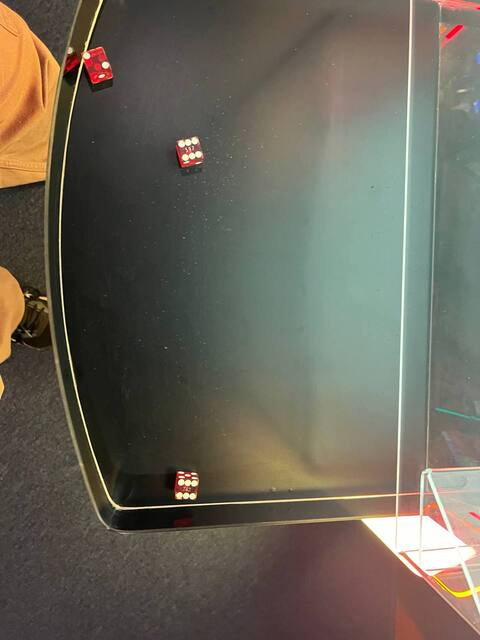six: (174, 135, 205, 165), (172, 475, 200, 504)
two: (80, 45, 111, 76)
